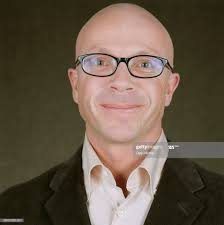Glasses: (68, 49, 181, 82)
